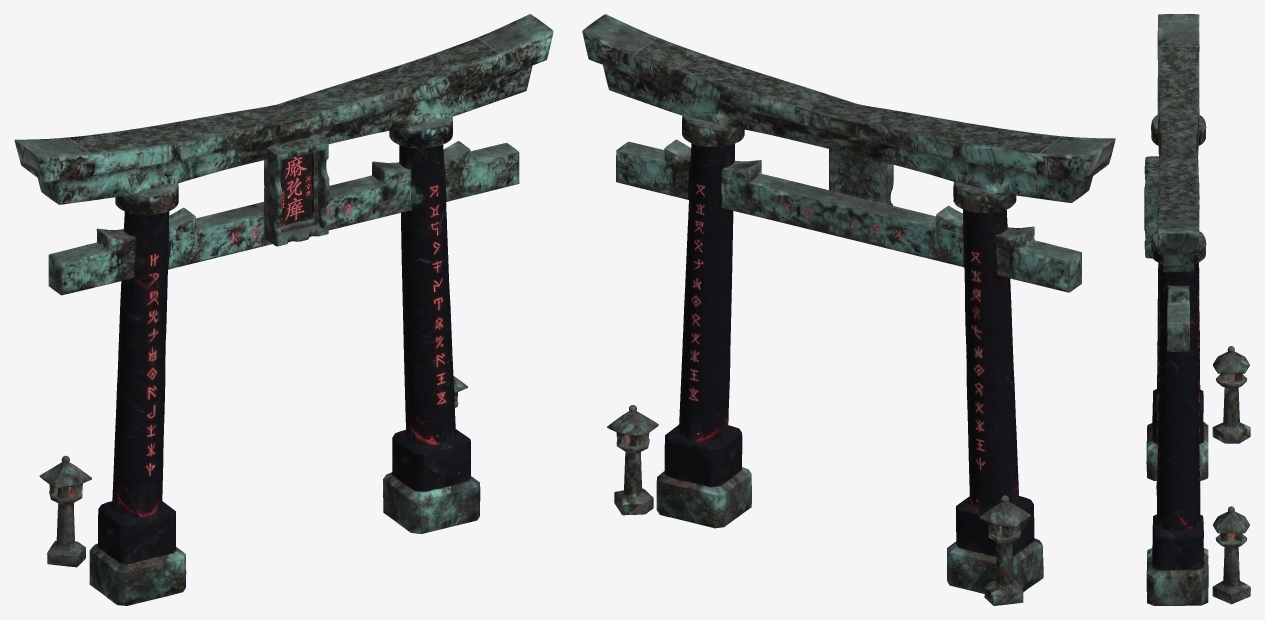
The model's file is kageTorii.glb.
3 views of the same model, side by side, from view 1: azimuth 30°, elevation 25°; view 2: azimuth 150°, elevation 25°; view 3: azimuth 270°, elevation 25° (orthographic). The views are drawn at different scales.
Bounding box in the file's own units: 1.9 × 1.64 × 0.3904.
1 material, 1 textured.
